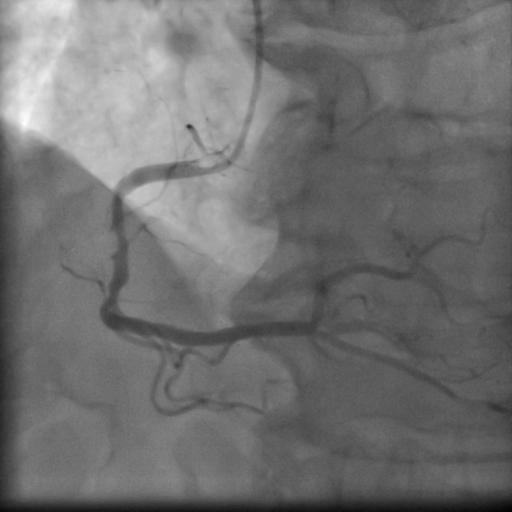Stenosis: (99, 187, 133, 312)
